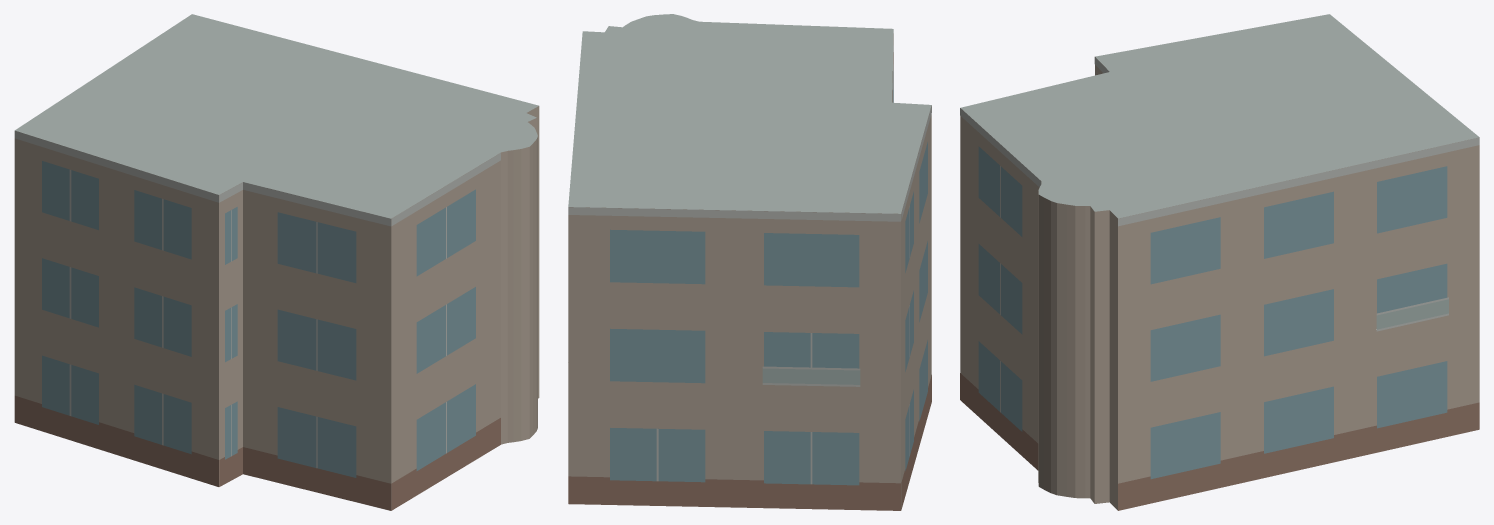
File: survey-upis-32960631.glb
3 renders of one model, left to right at view 1: azimuth 30°, elevation 25°; view 2: azimuth 150°, elevation 25°; view 3: azimuth 270°, elevation 25°, orthographic.
Visible parts, largest first — view 1: survey-upis-32960631.tmp; view 2: survey-upis-32960631.tmp; view 3: survey-upis-32960631.tmp.
Part boxes in pixels (left/top/right/bottom): survey-upis-32960631.tmp: left=14, top=14, right=539, bottom=510; survey-upis-32960631.tmp: left=568, top=14, right=931, bottom=510; survey-upis-32960631.tmp: left=960, top=14, right=1479, bottom=510.
Bounding box in the file's own units: 13.74 × 9.15 × 14.75.
